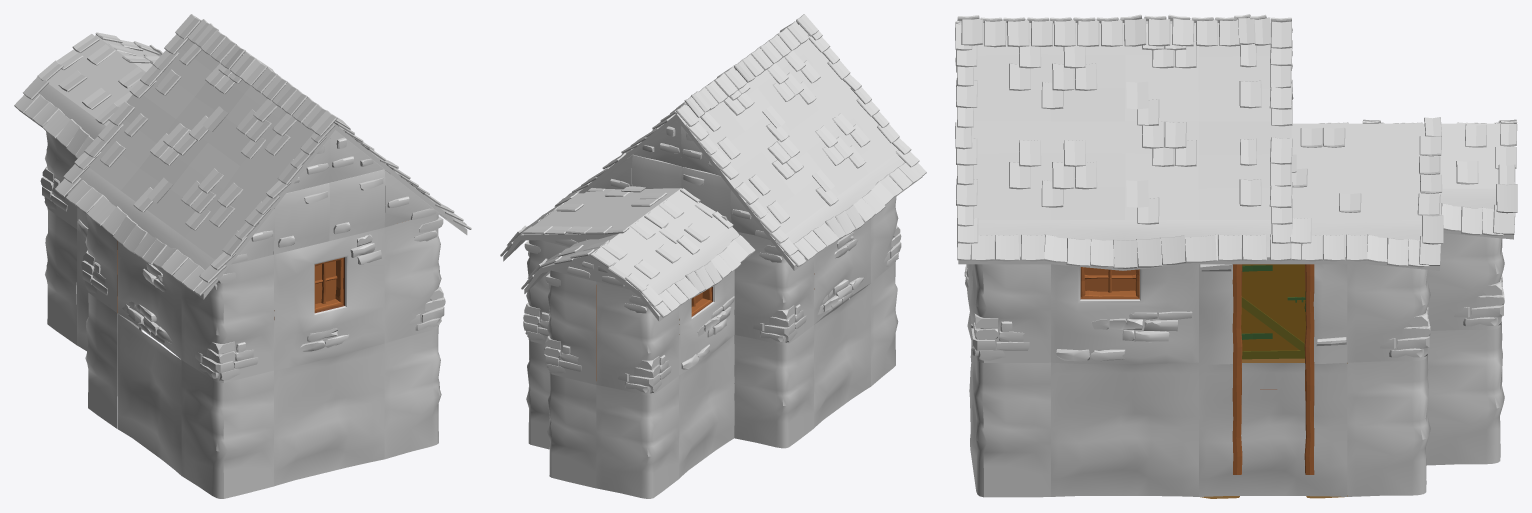
The model's file is Modular_house_1 1.fbx.
3 views of the same model, side by side, from view 1: azimuth 30°, elevation 25°; view 2: azimuth 150°, elevation 25°; view 3: azimuth 270°, elevation 25° (orthographic). The views are drawn at different scales.
Parts seen in each view (by area): view 1: roof.010, roof.011, wall.052, wall.055, wall.014, wall.015, wall.056, Roof_long_strip_low.006, wall.053, wall.013, roof.012, wall.016 (+24 smaller); view 2: roof.010, roof.011, wall.060, wall.057, wall.020, Roof_long_strip_low.006, wall.056, wall.058, wall.017, roof.015, wall.059, Roof_long_strip_low.008 (+27 smaller); view 3: roof.008, roof.009, wall.054, wall.050, Roof_long_strip_low.005, roof.015, wall.051, wall.053, wall.012, wall.059, roof.012, Roof_long_strip_low.009 (+16 smaller).
Part boxes in pixels (x1,y1,x2,y2): roof.010: (74, 94, 279, 271); roof.011: (129, 30, 335, 200); wall.052: (274, 343, 384, 486); wall.055: (181, 360, 274, 498); wall.014: (274, 227, 384, 370); wall.015: (181, 254, 274, 382); wall.056: (117, 313, 181, 475); Roof_long_strip_low.006: (55, 164, 226, 299); wall.053: (384, 328, 441, 459); wall.013: (384, 214, 441, 343); roof.012: (175, 14, 350, 136); wall.016: (117, 241, 181, 359); roof.010: (726, 87, 911, 246); roof.011: (676, 24, 861, 182); wall.060: (596, 376, 679, 498); wall.057: (734, 325, 814, 448); wall.020: (596, 281, 679, 395); Roof_long_strip_low.006: (774, 150, 926, 270); wall.056: (814, 283, 870, 427); wall.058: (679, 335, 734, 478); wall.017: (734, 232, 814, 344); roof.015: (520, 186, 680, 240); wall.059: (547, 373, 596, 488); Roof_long_strip_low.008: (640, 227, 755, 321); roof.008: (955, 121, 1292, 226); roof.009: (955, 23, 1292, 128); wall.054: (1051, 362, 1198, 496); wall.050: (1199, 362, 1347, 496); Roof_long_strip_low.005: (957, 218, 1292, 270); roof.015: (1291, 117, 1442, 219); wall.051: (1347, 355, 1430, 496); wall.053: (970, 355, 1050, 497); wall.012: (1051, 264, 1198, 363); wall.059: (1426, 324, 1504, 465); roof.012: (957, 14, 1291, 48); Roof_long_strip_low.009: (1290, 215, 1443, 270).
Bounding box in the file's own units: 495 × 625 × 759.
